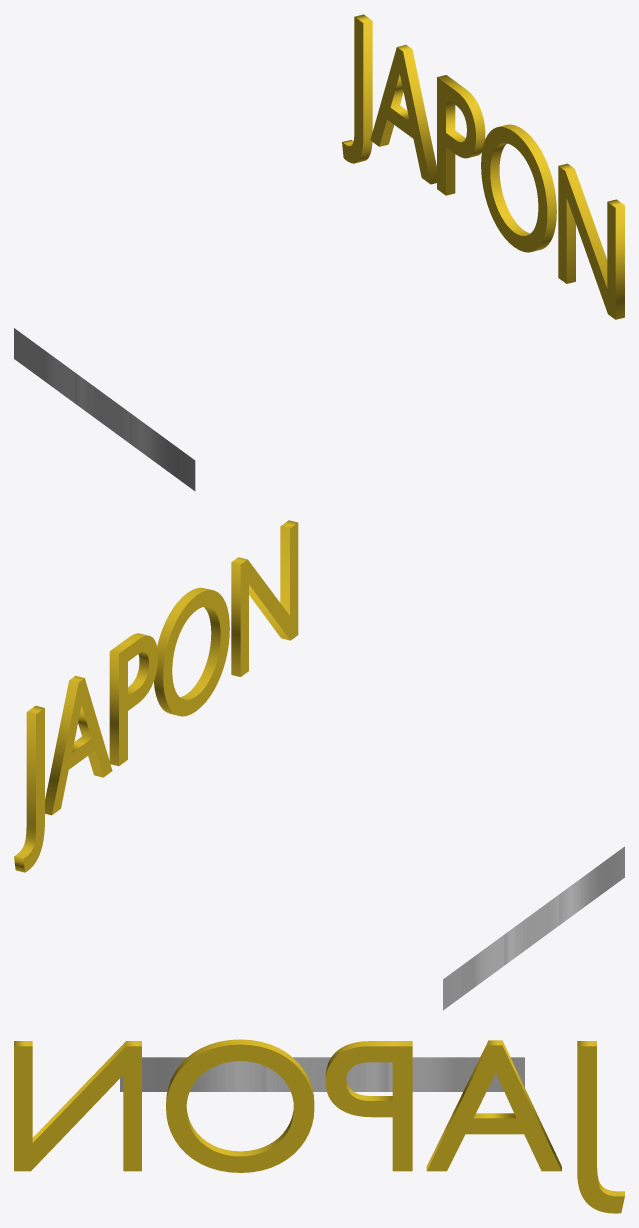
The model's file is bandera de japon.glb.
3 views of the same model, one above another, from view 1: azimuth 30°, elevation 25°; view 2: azimuth 150°, elevation 25°; view 3: azimuth 270°, elevation 25° (orthographic). The views are drawn at different scales.
Parts seen in each view (by area): view 1: Text.001, Plane; view 2: Text.001, Plane; view 3: Text.001, Plane.
Boxes of the visible parts, bbox=[...] form: Text.001: bbox=[342, 14, 624, 319]; Plane: bbox=[14, 328, 195, 491]; Text.001: bbox=[14, 520, 298, 872]; Plane: bbox=[443, 846, 624, 1010]; Text.001: bbox=[14, 1039, 624, 1213]; Plane: bbox=[120, 1057, 524, 1091].
Bounding box in the file's own units: 12.17 × 6.97 × 15.09.
Materials: 2 (1 with a texture image).
